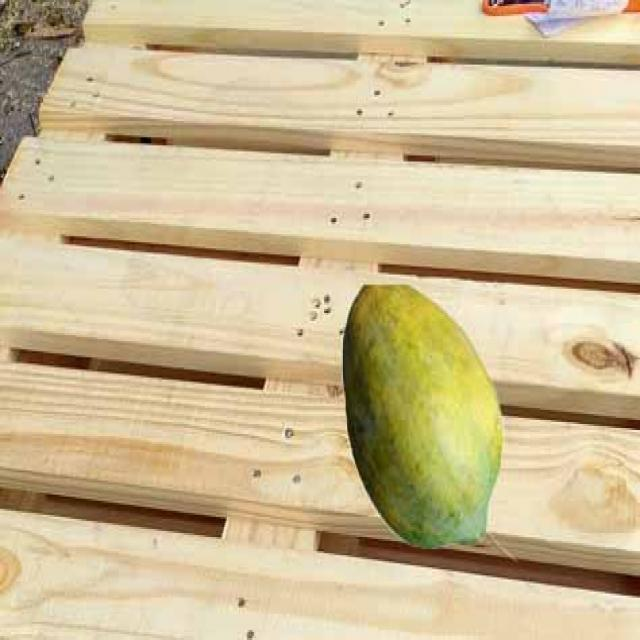Pepaya rippen: (333, 265, 502, 551)
